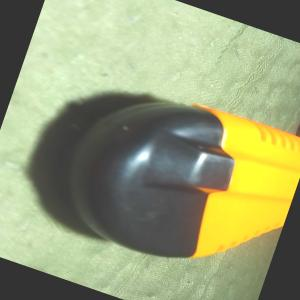estilete: (46, 67, 300, 294)
